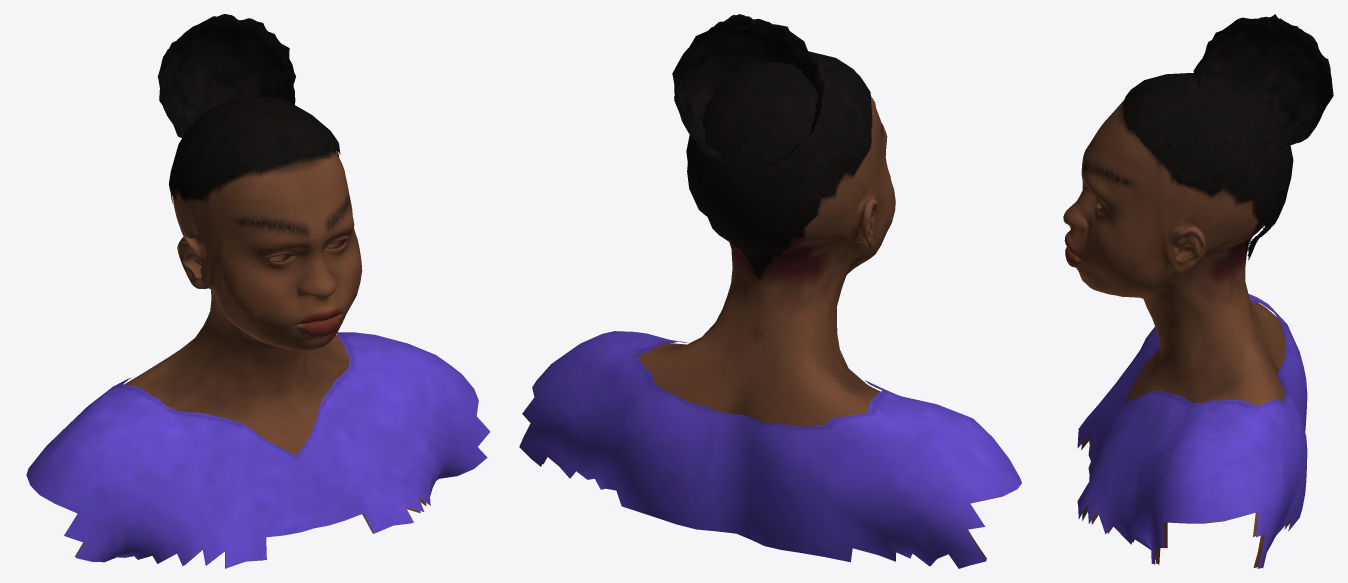
File: amara.glb
The picture shows the model from 3 angles, left to right: view 1: azimuth 30°, elevation 25°; view 2: azimuth 150°, elevation 25°; view 3: azimuth 270°, elevation 25°; orthographic projection. The views are drawn at different scales.
Parts seen in each view (by area): view 1: shirt, head, bun, hair; view 2: shirt, head, hair, bun; view 3: head, shirt, hair, bun.
Boxes of the visible parts, x1=… form: shirt: x1=26, y1=332, x2=490, y2=568; head: x1=75, y1=150, x2=426, y2=568; bun: x1=157, y1=14, x2=295, y2=137; hair: x1=169, y1=97, x2=340, y2=203; shirt: x1=519, y1=331, x2=1021, y2=568; head: x1=543, y1=96, x2=1006, y2=559; hair: x1=686, y1=51, x2=872, y2=278; bun: x1=672, y1=14, x2=824, y2=166; head: x1=1063, y1=101, x2=1290, y2=568; shirt: x1=1077, y1=294, x2=1307, y2=568; hair: x1=1123, y1=73, x2=1293, y2=260; bun: x1=1193, y1=14, x2=1333, y2=150.
Size of the model in its own units: 4.61 by 4.72 by 2.5.
6 materials, 4 textured.
